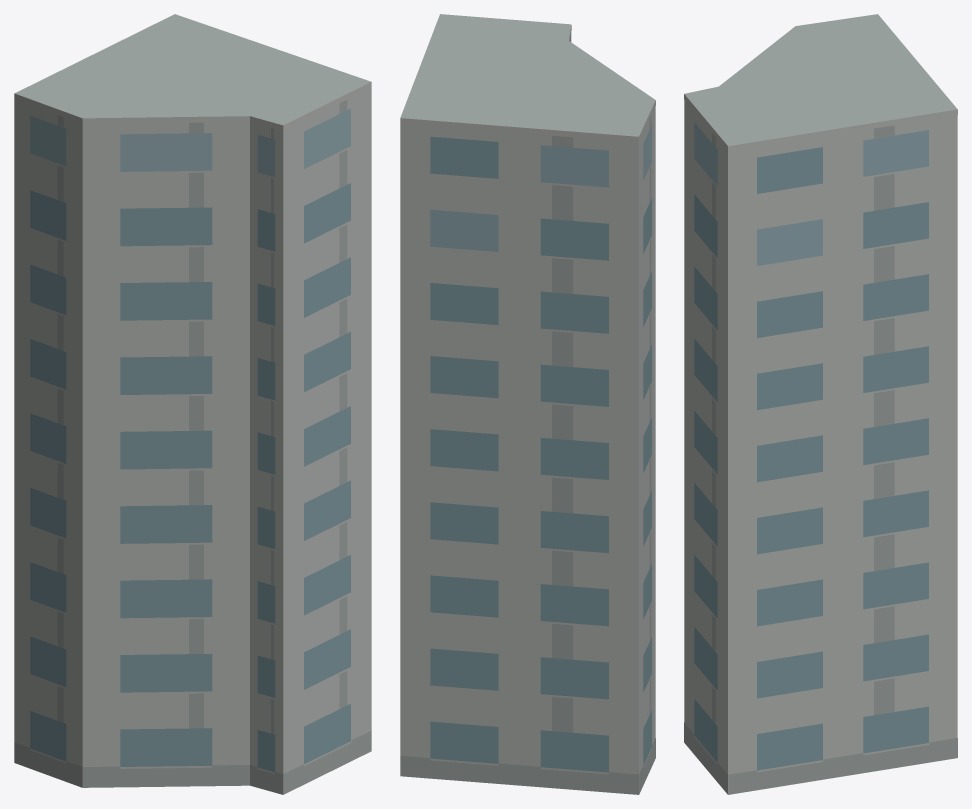
Rendered from survey-upis-32968797.glb.
3 views of the same model, side by side, from view 1: azimuth 30°, elevation 25°; view 2: azimuth 150°, elevation 25°; view 3: azimuth 270°, elevation 25° (orthographic). The views are drawn at different scales.
Visible parts, largest first — view 1: survey-upis-32968797.tmp; view 2: survey-upis-32968797.tmp; view 3: survey-upis-32968797.tmp.
Part boxes in pixels (<box>): survey-upis-32968797.tmp: <box>14,14,371,794</box>; survey-upis-32968797.tmp: <box>400,14,655,794</box>; survey-upis-32968797.tmp: <box>684,14,957,794</box>.
Size of the model in its own units: 12.01 by 27.45 by 10.51.
